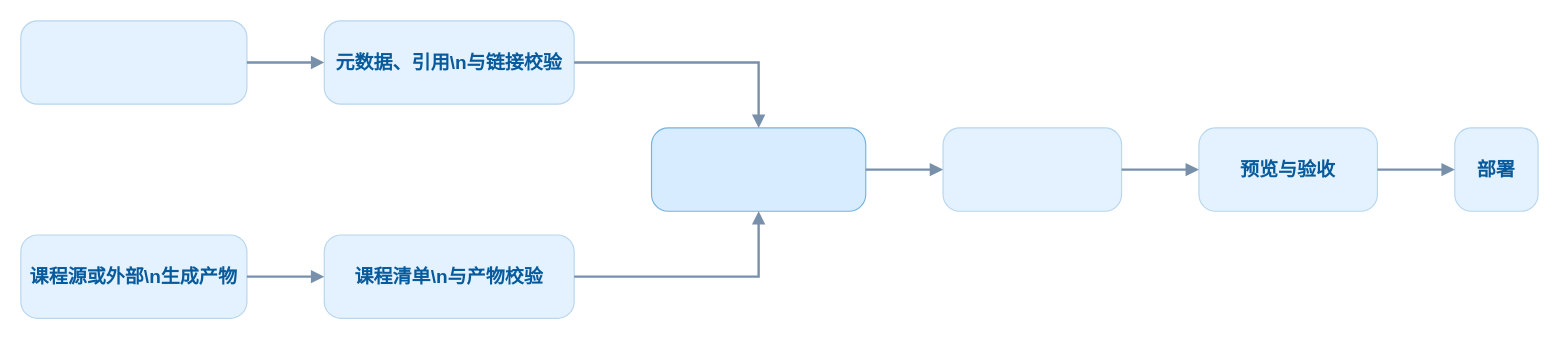
This 1559x339 diagram has some shape labels left out. The centre of each missing label's shape, as x and y in pixels:
"人工维护的内容源" belongs at (133,62).
"站点构建" belongs at (1032,169).
"统一内容索引" belongs at (758,169).
